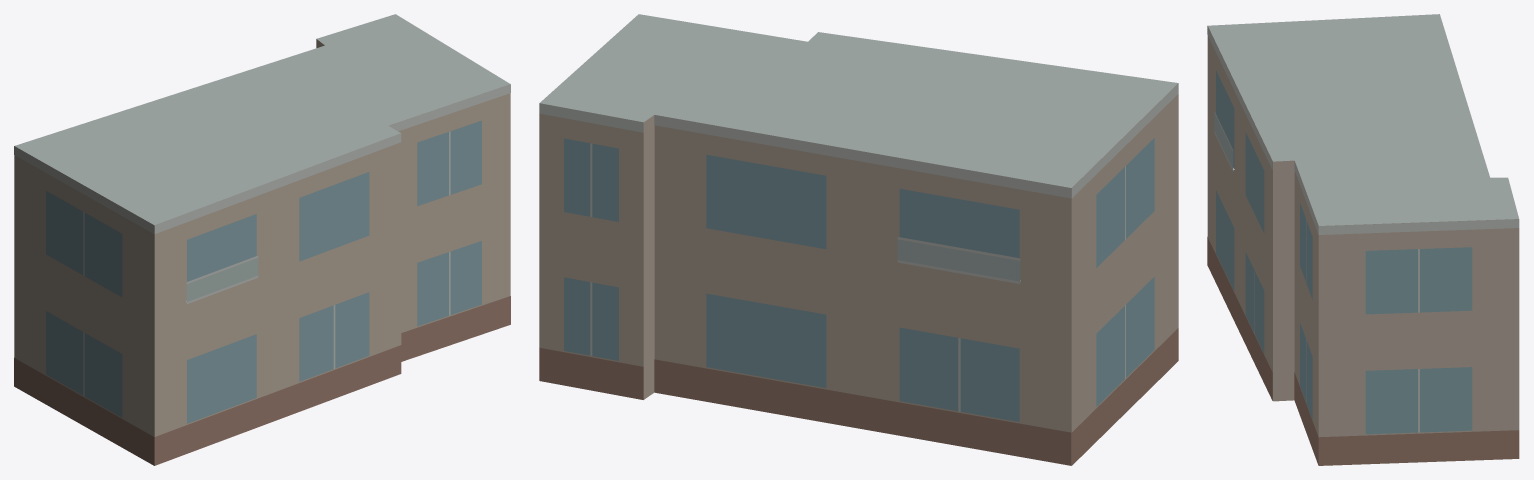
The model's file is survey-upis-33028511.glb.
3 renders of one model, left to right at view 1: azimuth 30°, elevation 25°; view 2: azimuth 150°, elevation 25°; view 3: azimuth 270°, elevation 25°, orthographic. The views are drawn at different scales.
Parts seen in each view (by area): view 1: survey-upis-33028511.tmp; view 2: survey-upis-33028511.tmp; view 3: survey-upis-33028511.tmp.
Part boxes in pixels (<box>): survey-upis-33028511.tmp: <box>14,14,510,465</box>; survey-upis-33028511.tmp: <box>539,14,1178,465</box>; survey-upis-33028511.tmp: <box>1207,14,1519,465</box>.
Size of the model in its own units: 12.33 by 6.5 by 7.66.
